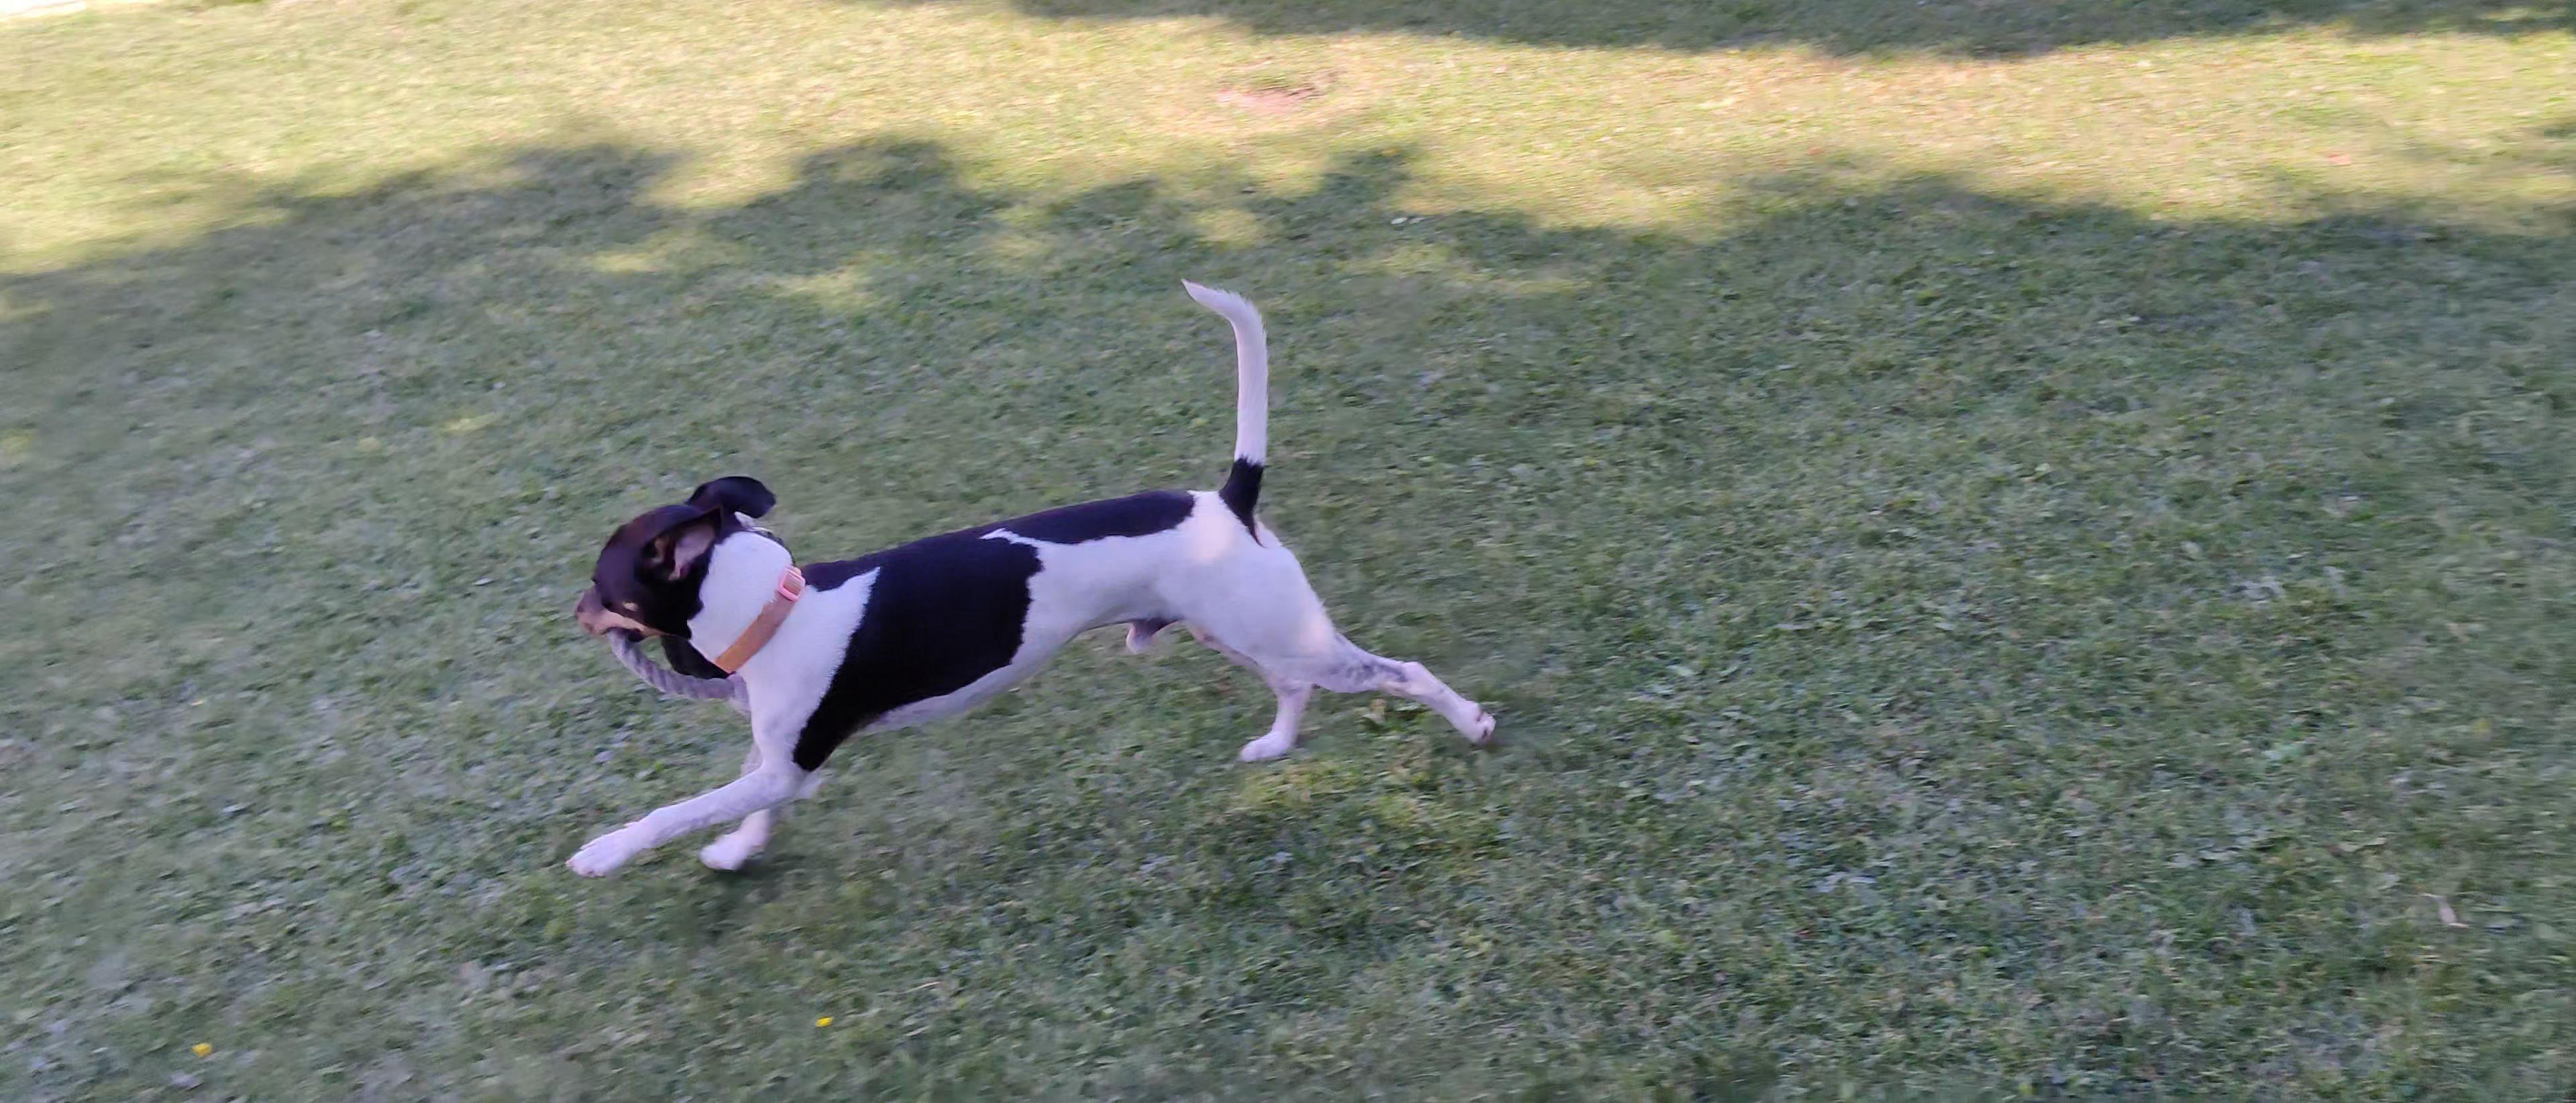Dog: (531, 268, 1520, 919)
